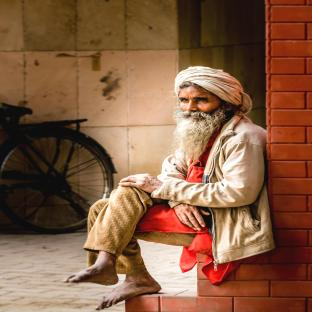Human: (63, 66, 275, 310)
